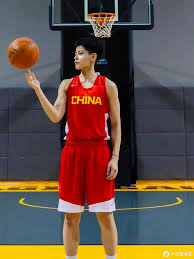person: (27, 34, 126, 259)
